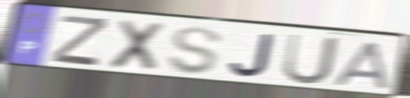A: (331, 39, 392, 91)
J: (228, 32, 276, 79)
S: (165, 25, 225, 76)
U: (280, 32, 341, 86)
X: (105, 18, 169, 74)
Z: (49, 13, 111, 69)
